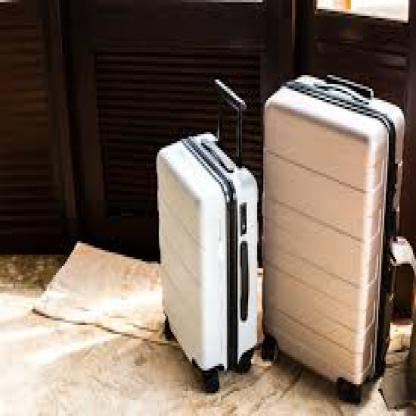maleta: (244, 50, 400, 414), (138, 66, 269, 395)
